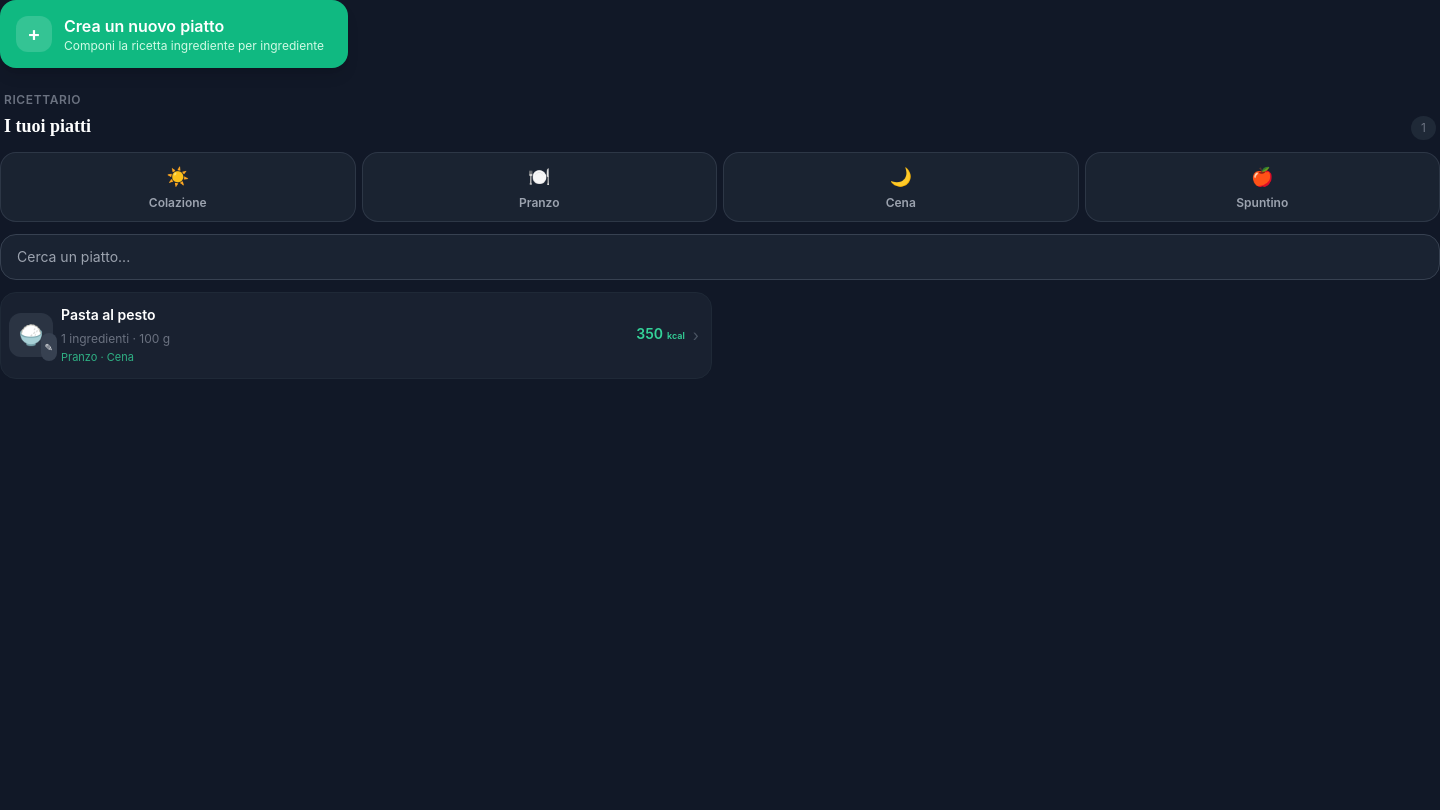
Test case: Kitchen dish categories › preselects the current category in a new recipe and explains an empty category
The width and height of the screenshot is (1440, 810).
Expected: the text "Pasta al pesto" is shown, [61,306,156,323]
Click the button "☀️ Colazione": (178, 187) [0,152,356,222]
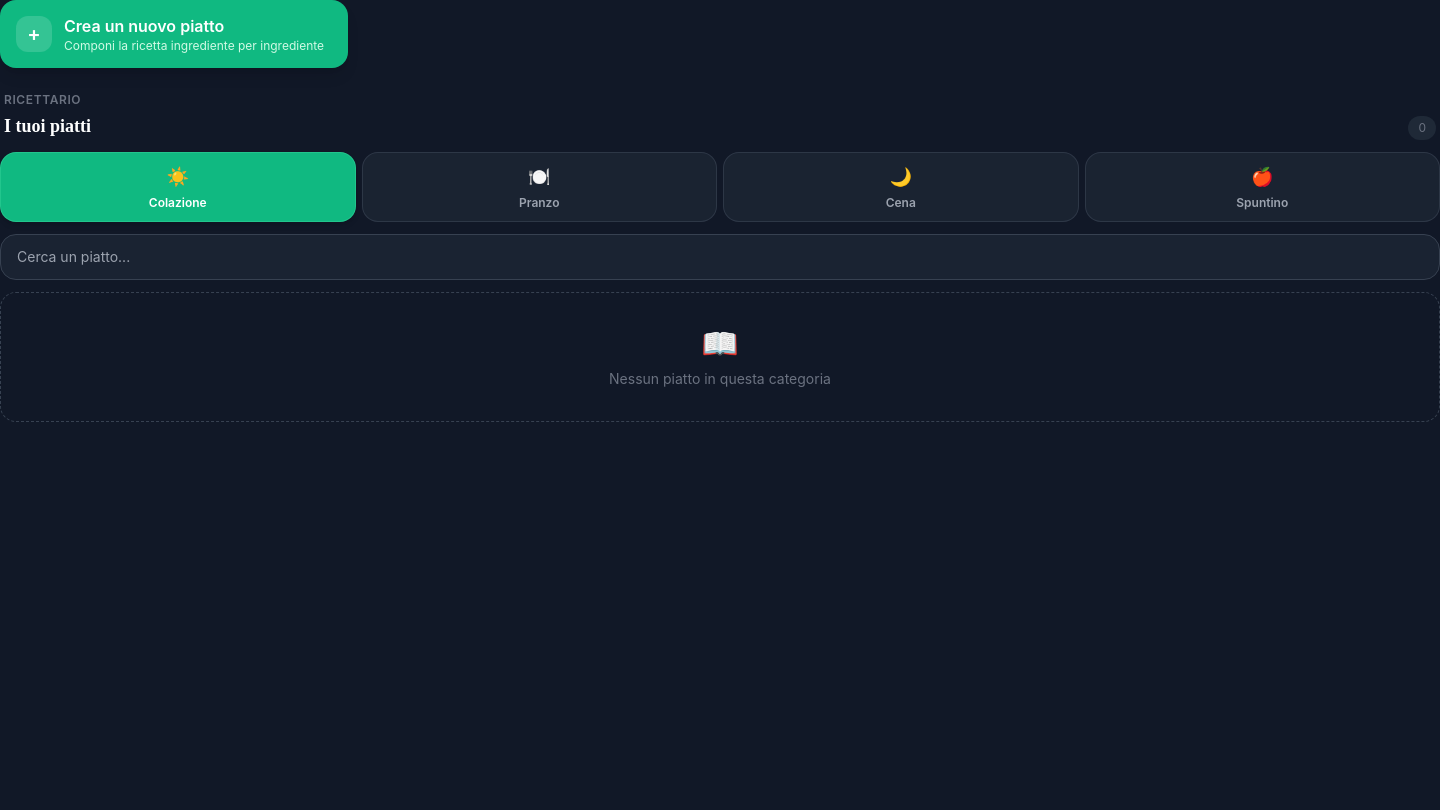
Expected: the text "Nessun piatto in questa categoria" is shown, [609,370,831,387]
Click the button "Crea un nuovo piatto": (174, 34) [0,0,348,68]
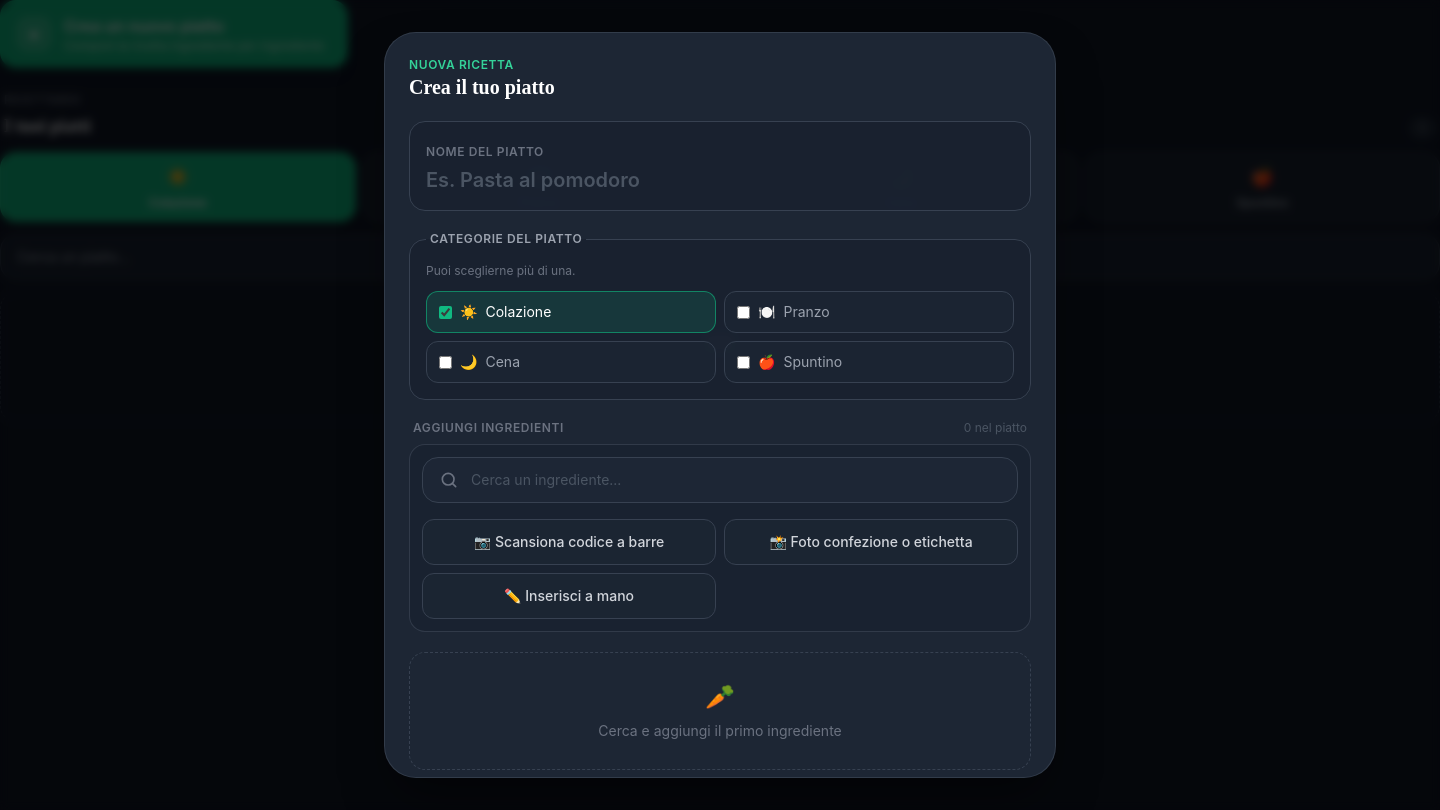
Expected: the checkbox labelled "☀️ Colazione" is checked, [439,306,452,319]
Expected: the checkbox labelled "🍽️ Pranzo" is not checked, [737,306,750,319]
